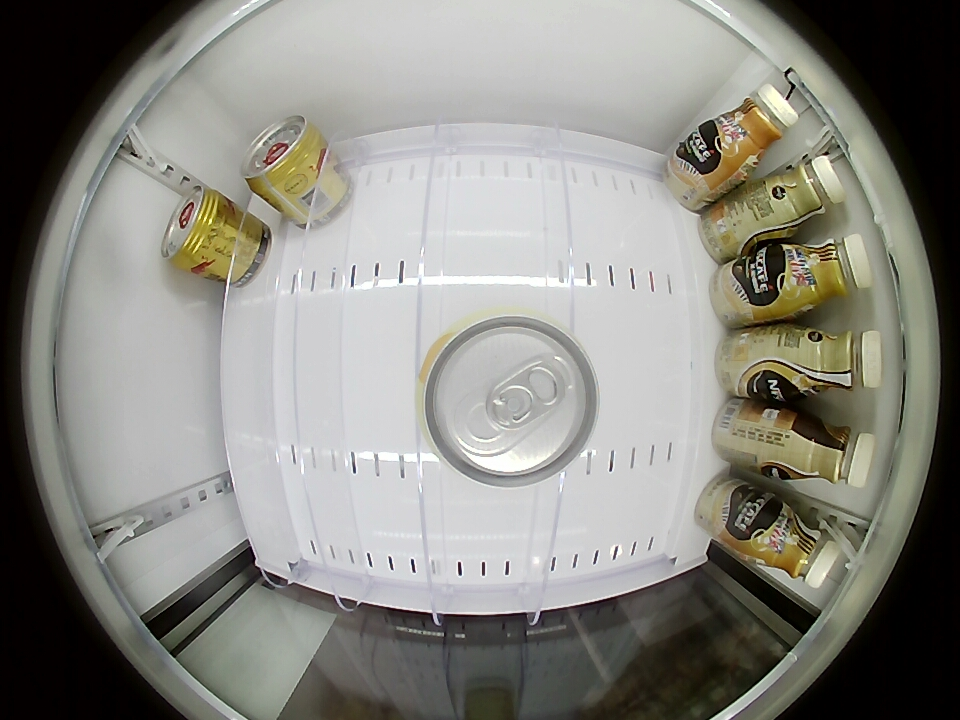hongniu: (241, 115, 324, 195), (161, 187, 230, 271)
kafei: (707, 85, 800, 174), (748, 500, 841, 589), (772, 234, 873, 315), (777, 327, 883, 399), (777, 415, 875, 488), (759, 155, 847, 235)
mangguoxiaolao: (418, 313, 599, 487)
